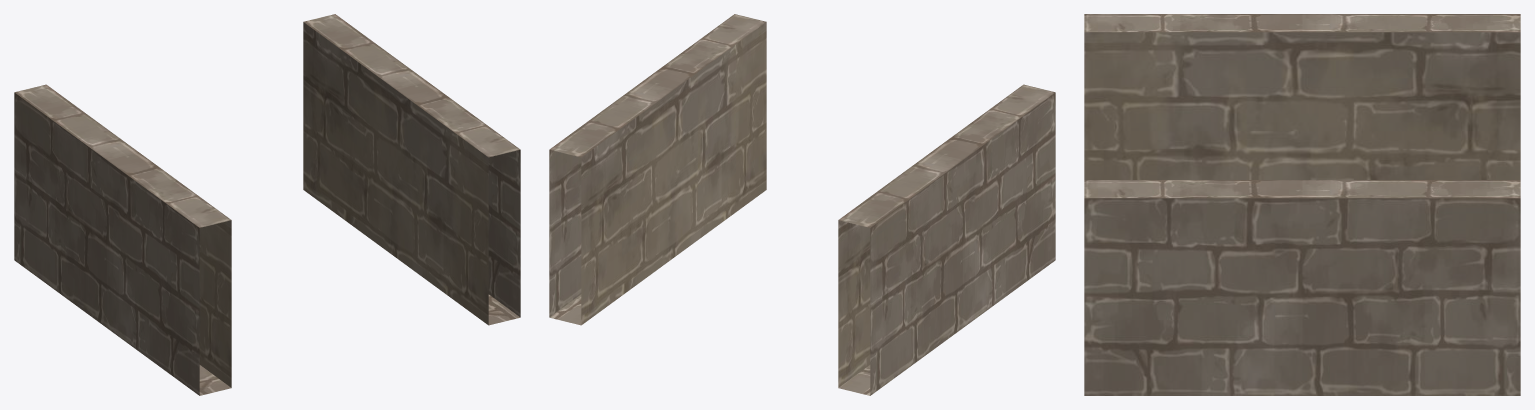
File: stairs-qm-stairsexteriorsides.glb
3 views of the same model, side by side, from view 1: azimuth 30°, elevation 25°; view 2: azimuth 150°, elevation 25°; view 3: azimuth 270°, elevation 25° (orthographic). The views are drawn at different scales.
Parts seen in each view (by area): view 1: Cube_092; view 2: Cube_092; view 3: Cube_092.
Part boxes in pixels (left/top/right/bottom): Cube_092: left=14, top=14, right=520, bottom=395; Cube_092: left=549, top=14, right=1055, bottom=395; Cube_092: left=1084, top=14, right=1520, bottom=395.
Bounding box in the file's own units: 2 × 1 × 2.
1 material, 1 textured.
